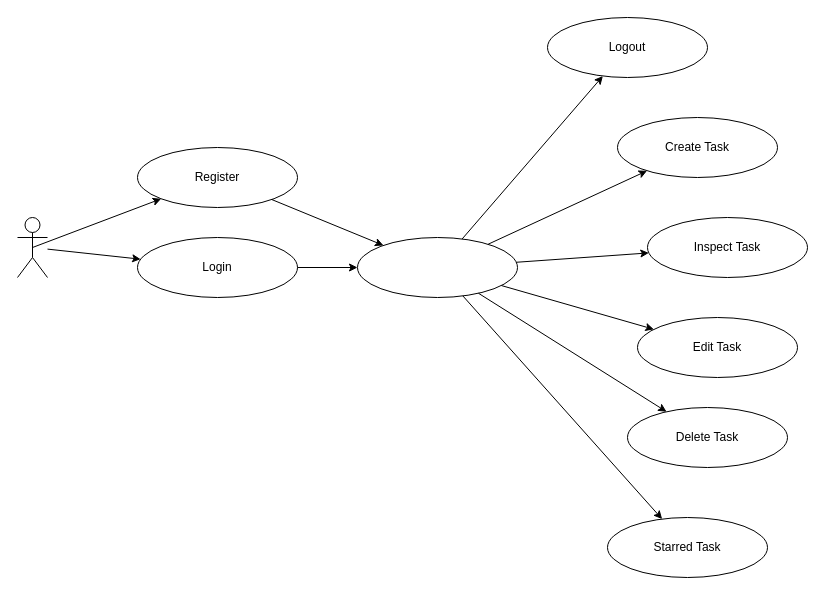
The diagram is 825 pixels wide and 595 high, and some of its shapes have lost their labels. The shapes that lost their labels are listed below. From the top down, each one's centre as x and y in pixels, then its label:
At pixel 32 247: "User".
At pixel 437 267: "DashBoard".
